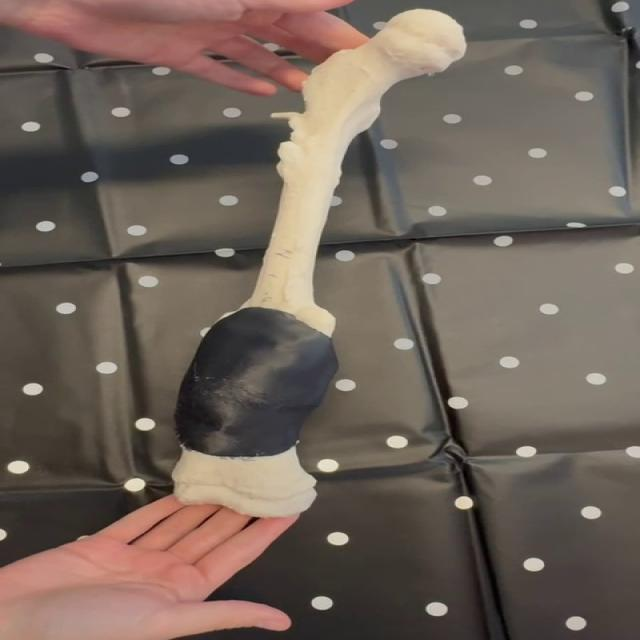bones: (172, 10, 466, 517)
